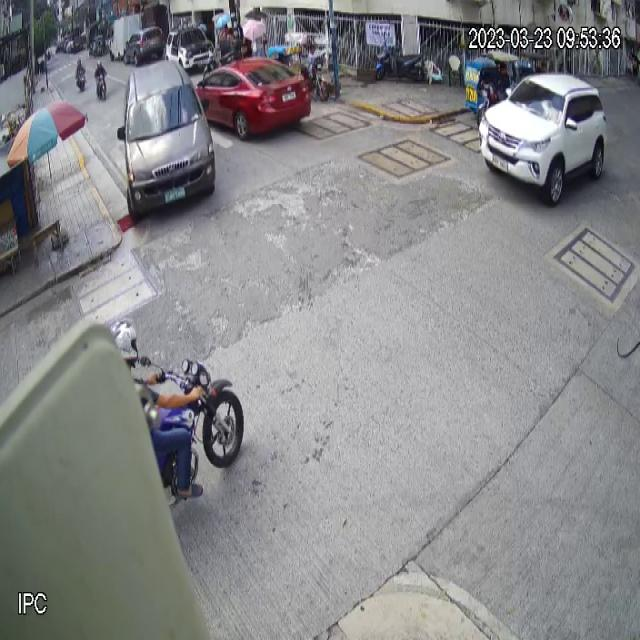Car: (477, 70, 608, 205), (192, 55, 312, 142)
Van: (116, 59, 219, 228)
